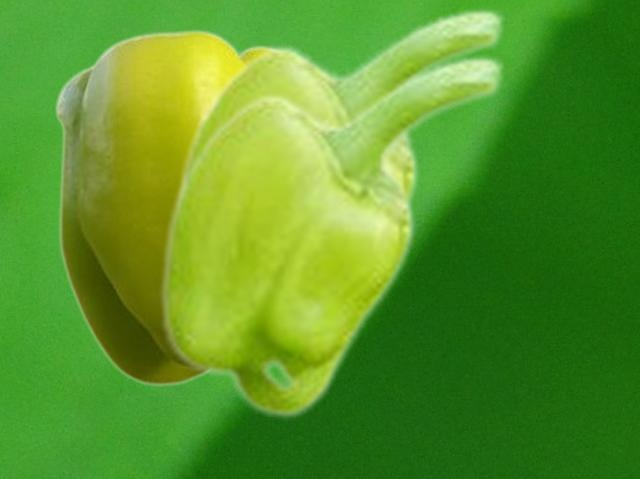bell_pepper: (158, 53, 505, 419), (54, 28, 269, 385), (172, 6, 505, 208)
